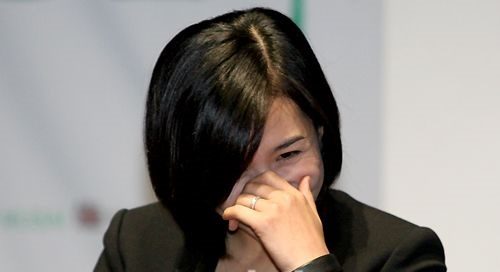face: (210, 97, 321, 236)
